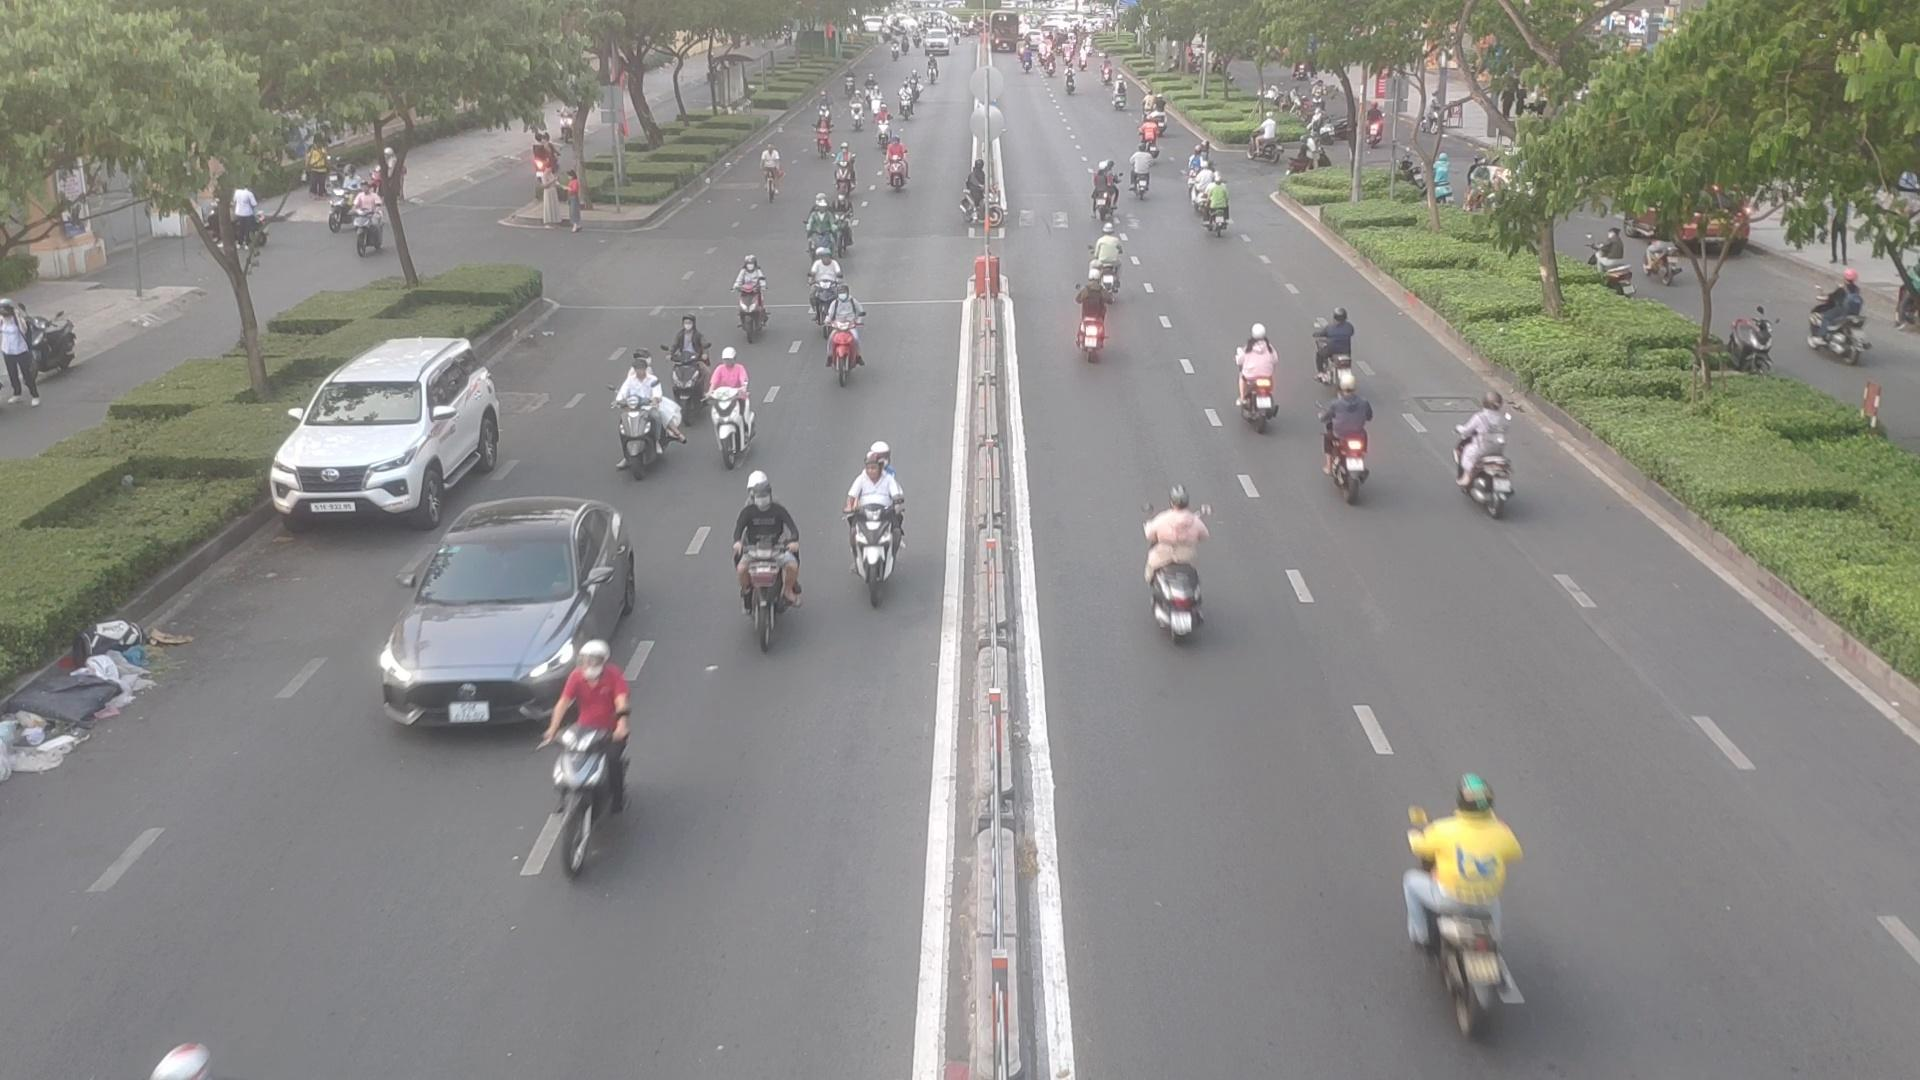car: (371, 493, 637, 731), (280, 332, 516, 524)
motorbike: (1396, 771, 1531, 1030), (512, 653, 642, 876), (725, 485, 804, 657), (1135, 493, 1211, 640), (843, 448, 909, 600), (608, 375, 684, 483), (1452, 401, 1520, 516), (696, 345, 760, 459), (1321, 386, 1386, 496), (808, 280, 876, 377), (1229, 328, 1284, 427), (657, 320, 713, 406), (1067, 277, 1120, 365), (727, 258, 774, 342), (1316, 309, 1364, 382), (1079, 231, 1129, 295), (961, 157, 997, 229), (806, 253, 840, 324), (1191, 179, 1232, 237), (878, 140, 914, 194), (802, 200, 833, 261), (833, 193, 862, 251), (825, 146, 857, 196), (1095, 158, 1120, 219), (1127, 152, 1155, 200), (874, 105, 893, 150), (815, 120, 831, 157)
